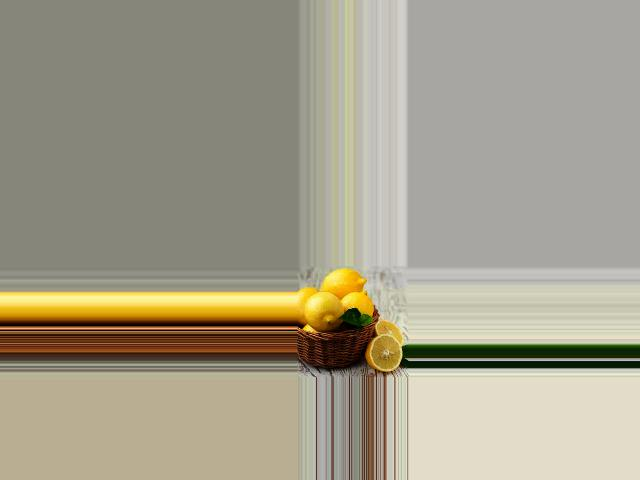lemon: (336, 290, 376, 328)
